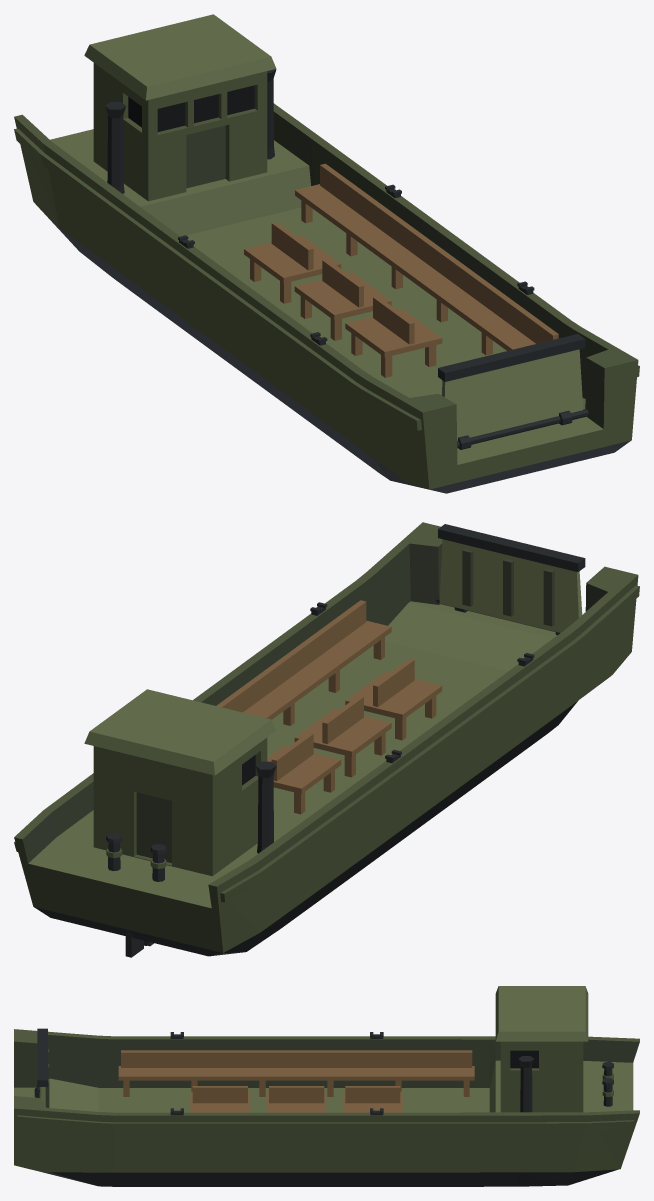
File: infantry-landing-craft-3a45c5.glb
3 renders of one model, top to bottom at view 1: azimuth 30°, elevation 25°; view 2: azimuth 150°, elevation 25°; view 3: azimuth 270°, elevation 25°, orthographic. The views are drawn at different scales.
Parts seen in each view (by area): view 1: hull, bow-ramp-mesh; view 2: hull, bow-ramp-mesh; view 3: hull, bow-ramp-mesh.
Boxes of the visible parts, <box> form: hull: <box>14,14,639,493</box>; bow-ramp-mesh: <box>438,334,585,449</box>; hull: <box>14,522,639,957</box>; bow-ramp-mesh: <box>438,524,585,635</box>; hull: <box>14,986,639,1186</box>; bow-ramp-mesh: <box>34,1028,49,1107</box>.
Bounding box in the file's own units: 3.42 × 2.85 × 11.
